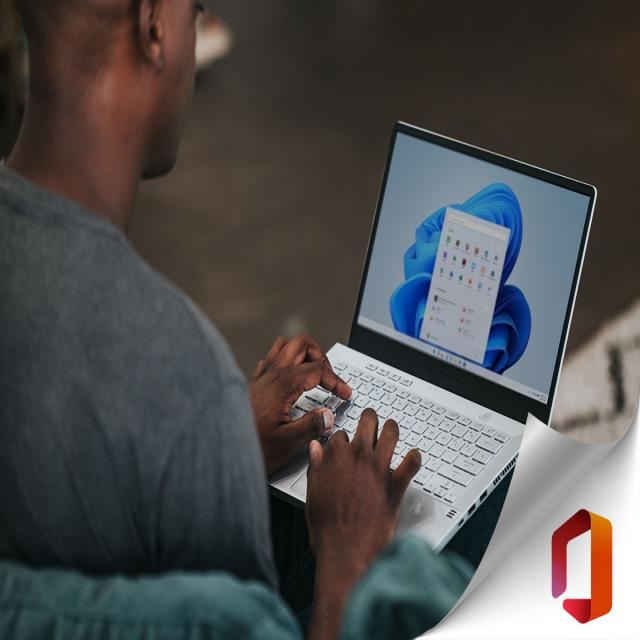keyboard-with-hands: (225, 338, 538, 570)
